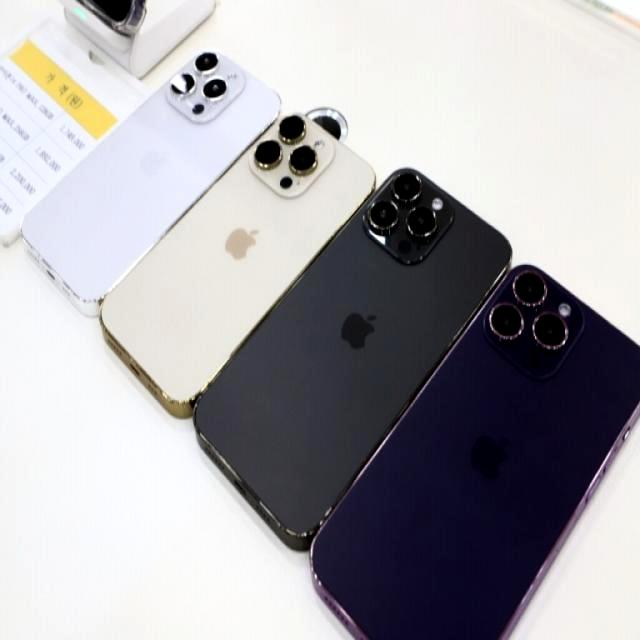lens_back: (531, 308, 572, 352), (486, 300, 526, 342), (512, 268, 550, 305), (404, 205, 440, 237), (287, 144, 320, 177), (252, 138, 284, 170), (367, 198, 400, 228), (391, 170, 421, 200), (168, 72, 197, 99), (279, 114, 306, 142), (202, 75, 228, 104), (192, 50, 222, 74)
phone: (305, 264, 640, 640), (194, 169, 514, 546), (99, 114, 376, 412), (17, 49, 284, 316)
